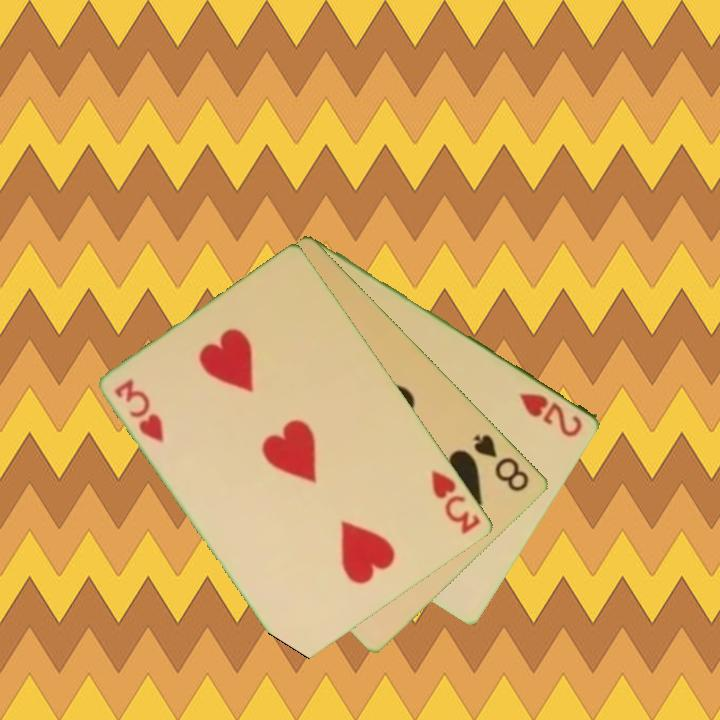2h: (516, 389, 586, 440)
3h: (111, 376, 168, 446), (428, 466, 484, 537)
8s: (470, 430, 533, 495)
